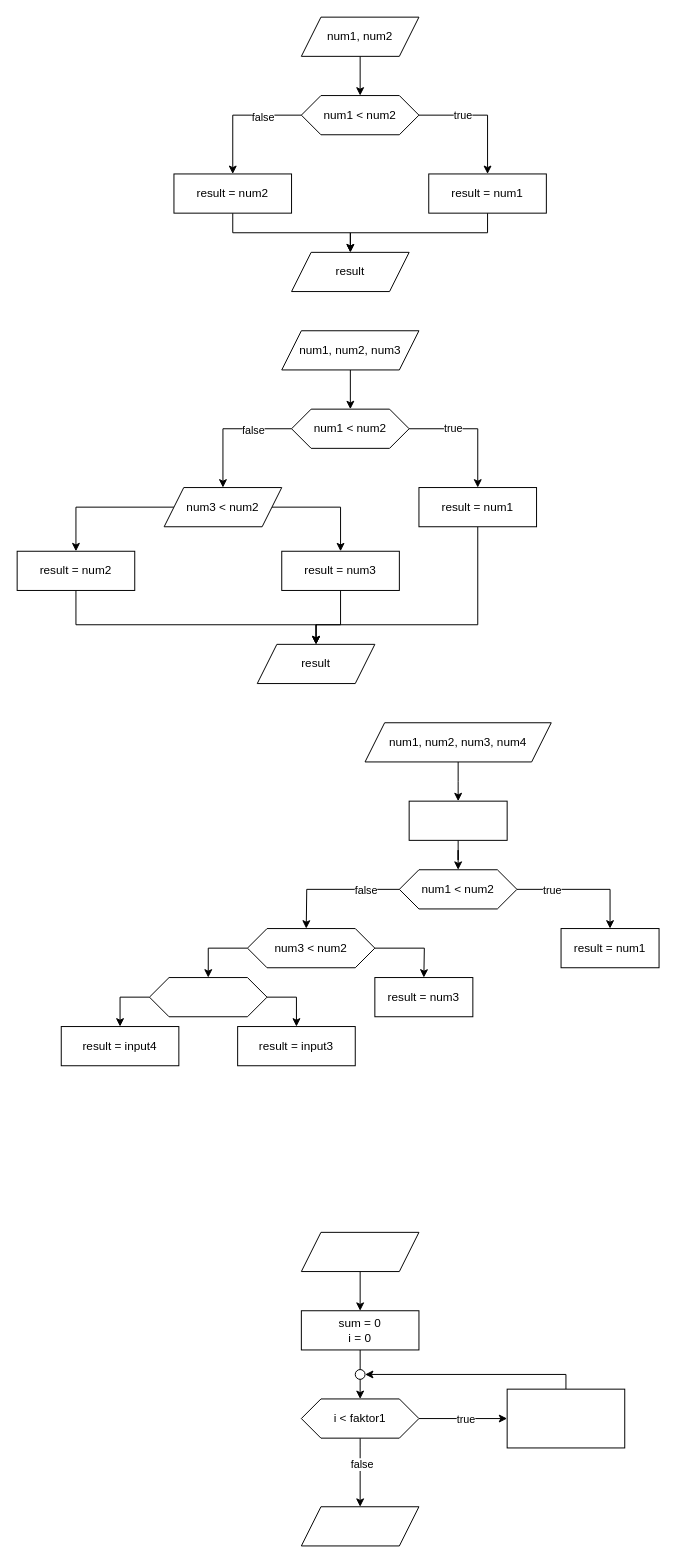
This 676x1563 diagram has some shape labels left out. The shapes that lost their labels are listed below. From the top down, each one's centre as x and y in pixels, then its label:
point (457, 820): result = 0
point (207, 997): input3 < input4
point (359, 1251): faktor1, faktor2
point (565, 1418): i = i + i sum = sum + faktor
point (359, 1526): sum
